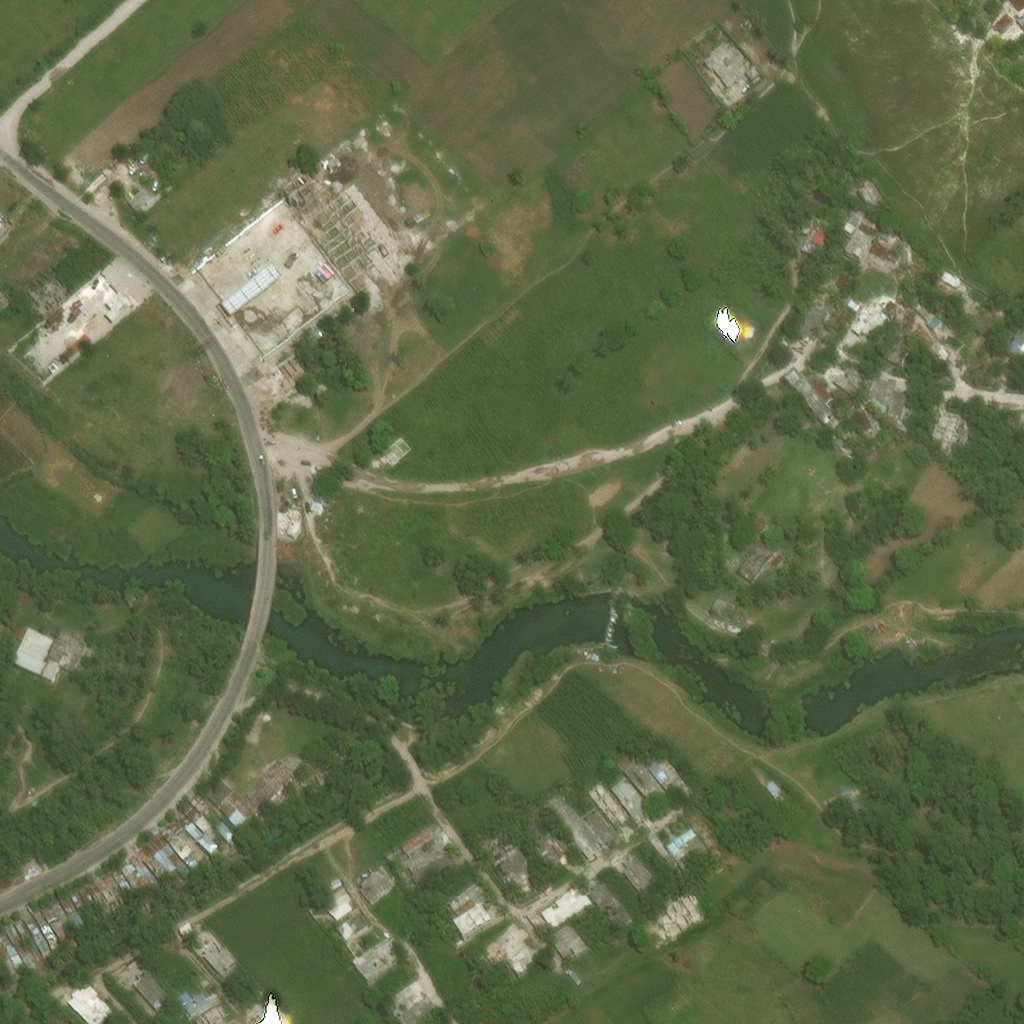minor_damage: (216, 756, 291, 826), (553, 793, 619, 851), (583, 876, 635, 931), (394, 822, 448, 874), (351, 936, 402, 984), (931, 405, 975, 458), (127, 955, 169, 1009), (586, 774, 629, 824), (618, 849, 661, 895), (783, 372, 825, 419), (489, 846, 535, 886), (331, 901, 374, 940), (622, 760, 663, 798), (355, 862, 393, 901), (454, 903, 492, 940), (503, 946, 545, 979), (391, 992, 435, 1023), (796, 302, 831, 338), (199, 937, 236, 970), (448, 880, 488, 910), (746, 540, 780, 574), (400, 915, 432, 950), (658, 756, 687, 789), (844, 210, 877, 238), (857, 179, 886, 210), (36, 915, 64, 947), (167, 827, 195, 858), (813, 407, 842, 436), (19, 925, 45, 957), (28, 921, 54, 952), (827, 306, 854, 334), (887, 410, 913, 436), (181, 910, 208, 935), (739, 559, 763, 585), (832, 388, 856, 414), (865, 396, 892, 418), (163, 840, 186, 863), (868, 236, 892, 258), (647, 760, 669, 783), (546, 837, 568, 859), (157, 813, 178, 835), (800, 226, 817, 253), (828, 367, 848, 388), (997, 23, 1018, 43), (863, 304, 882, 326), (160, 856, 180, 876), (173, 795, 192, 815), (18, 905, 36, 926), (9, 911, 27, 931), (27, 901, 45, 921), (811, 229, 828, 249), (878, 297, 897, 314), (901, 303, 914, 327), (494, 840, 509, 856), (186, 787, 200, 802), (879, 224, 893, 238), (50, 1010, 65, 1023), (1013, 0, 1023, 19), (446, 1012, 461, 1023), (760, 378, 772, 388), (724, 589, 730, 599)
no_damage: (8, 625, 55, 673), (705, 45, 747, 91), (551, 922, 590, 963), (56, 899, 91, 935), (46, 909, 75, 942), (664, 825, 697, 853), (810, 378, 836, 409), (142, 824, 166, 856), (206, 776, 232, 801), (130, 192, 155, 217), (10, 932, 32, 957), (853, 412, 875, 437), (1006, 327, 1023, 359), (191, 825, 214, 848), (104, 857, 125, 880), (116, 852, 135, 875), (41, 655, 60, 678), (35, 895, 55, 916), (54, 885, 74, 905), (179, 813, 198, 834), (45, 890, 64, 910), (645, 825, 663, 846), (126, 836, 147, 854), (755, 514, 773, 534), (129, 849, 147, 868), (63, 881, 81, 899), (2, 916, 18, 936), (75, 876, 91, 894), (747, 68, 763, 86), (5, 943, 21, 959), (47, 645, 64, 660), (89, 865, 104, 881), (9, 620, 25, 635), (97, 877, 112, 892), (284, 755, 298, 770), (0, 920, 9, 941), (775, 557, 788, 571), (135, 868, 148, 882), (86, 873, 96, 884)
unclassified: (426, 570, 455, 604), (618, 679, 638, 694), (651, 675, 667, 691), (925, 812, 939, 824), (760, 639, 770, 648), (699, 556, 710, 564), (641, 671, 649, 679), (963, 0, 975, 5), (724, 536, 730, 544), (974, 0, 984, 4), (638, 681, 646, 685), (637, 675, 642, 681)
